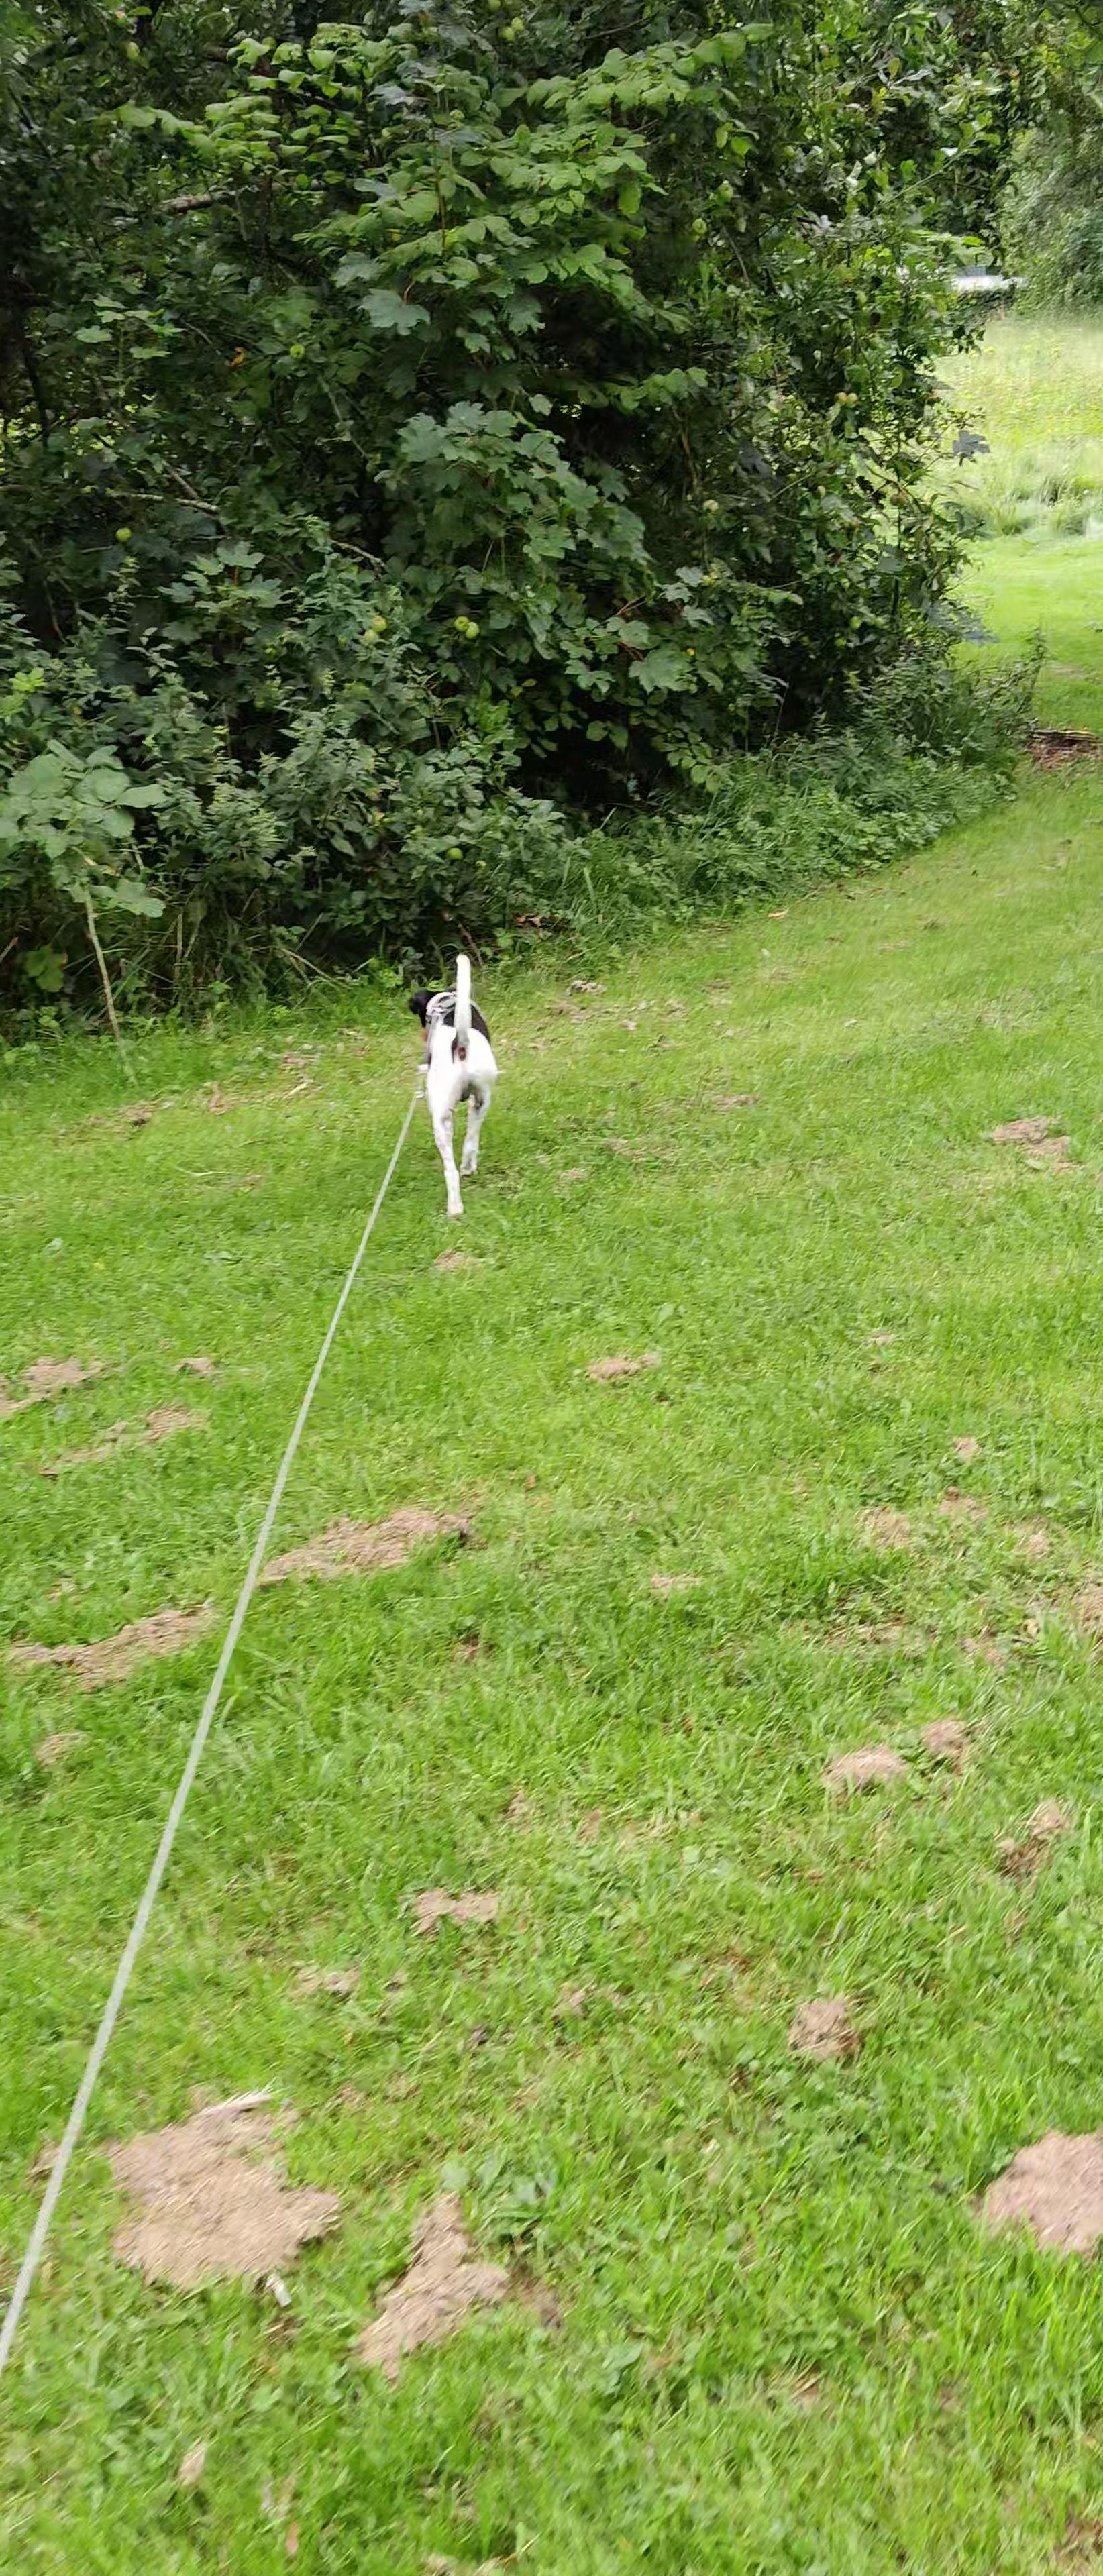Dog: (391, 927, 515, 1229)
